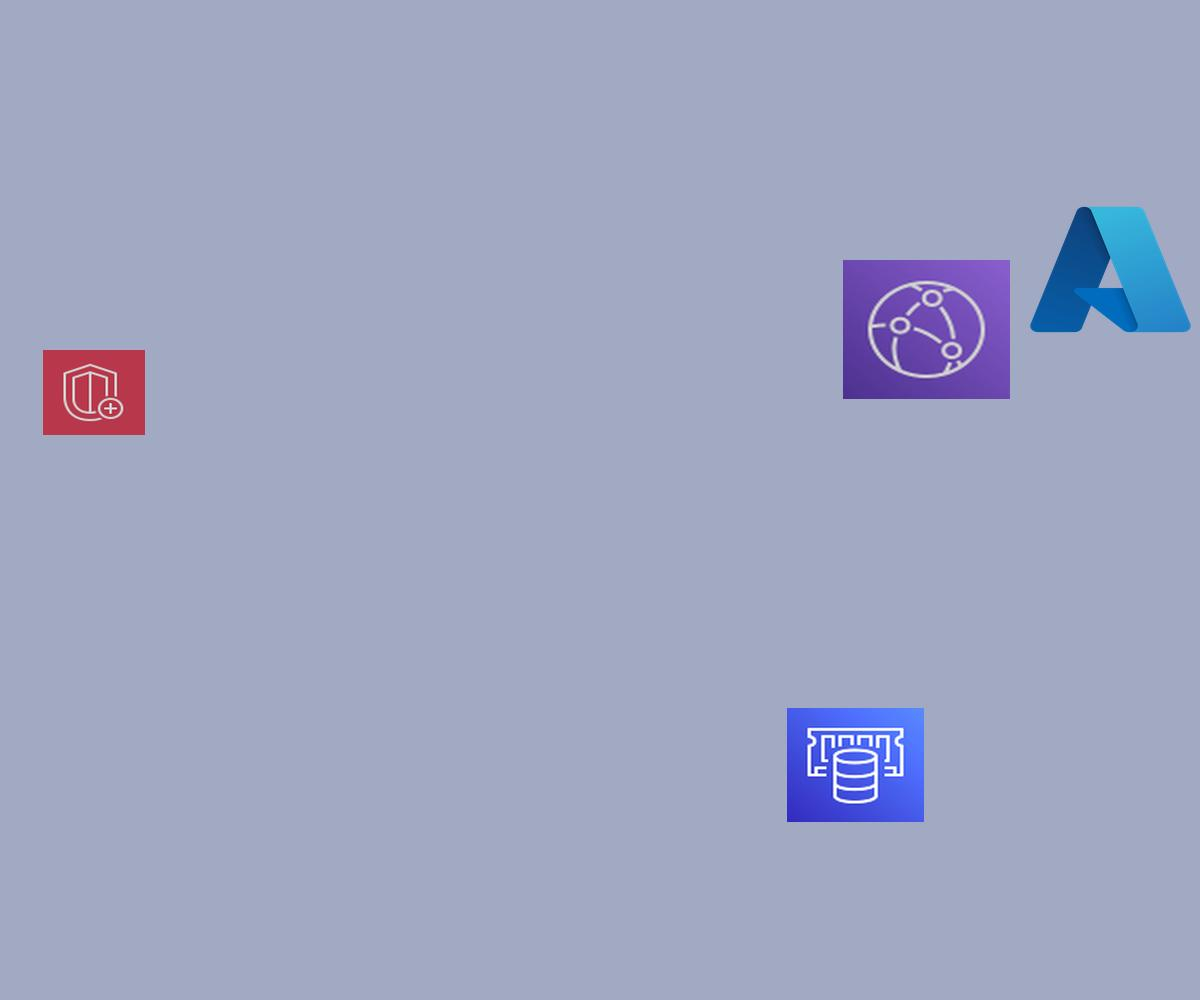AWS-CloudFront: (843, 260, 1010, 399)
AWS-ElastiCache: (787, 708, 924, 822)
AWS-Shield: (43, 350, 145, 435)
Azure_services: (1023, 197, 1198, 342)
